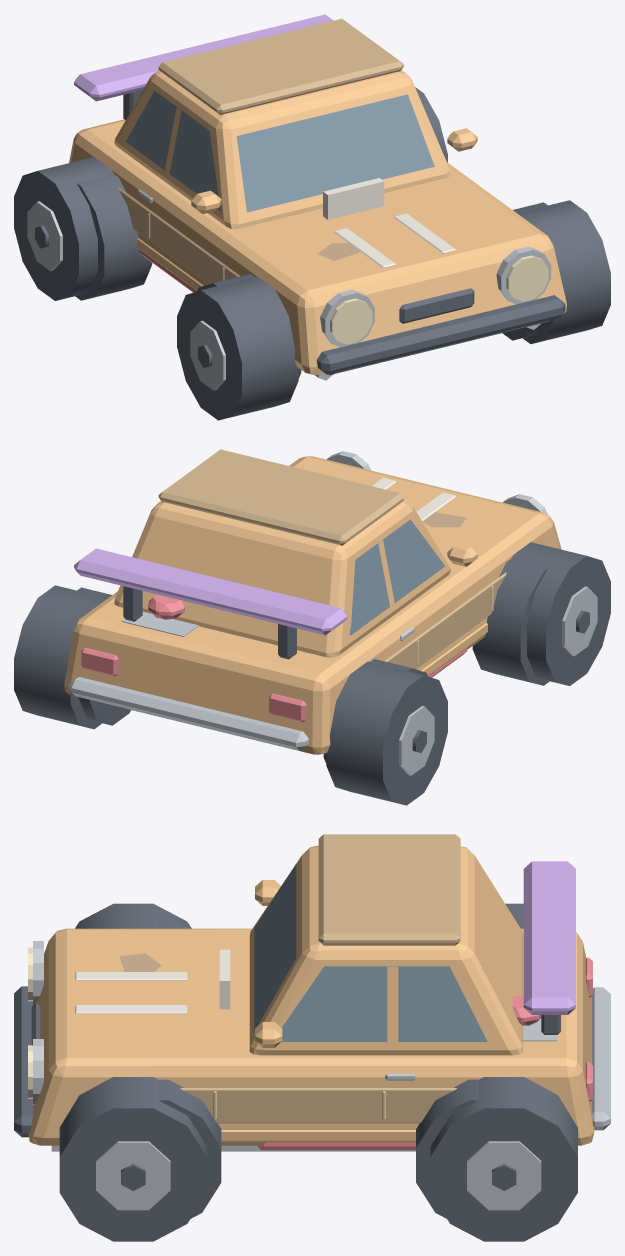
Rendered from cars_A.fbx.
The picture shows the model from 3 angles, top to bottom: view 1: azimuth 30°, elevation 25°; view 2: azimuth 150°, elevation 25°; view 3: azimuth 270°, elevation 25°; orthographic projection. The views are drawn at different scales.
Parts seen in each view (by area): view 1: D05_rusty_hatchback_orange, D05_go_kart_black, D05_rusty_hatchback_glass, D05_wooden_car_wood, D05_rusty_hatchback_black, D05_street_racer_purple, D05_go_kart_gray, D05_rusty_hatchback_yellow, D05_rusty_hatchback_gray, D05_go_kart_white, D05_street_racer_white; view 2: D05_rusty_hatchback_orange, D05_go_kart_black, D05_wooden_car_wood, D05_street_racer_purple, D05_rusty_hatchback_black, D05_rusty_hatchback_gray, D05_rusty_hatchback_glass, D05_go_kart_gray, D05_rusty_hatchback_red, D05_street_racer_black, D05_go_kart_red, D05_street_racer_white (+1 smaller); view 3: D05_rusty_hatchback_orange, D05_go_kart_black, D05_wooden_car_wood, D05_rusty_hatchback_glass, D05_go_kart_gray, D05_rusty_hatchback_black, D05_street_racer_purple, D05_rusty_hatchback_gray, D05_street_racer_white, D05_go_kart_red, D05_go_kart_white, D05_rusty_hatchback_rust (+1 smaller).
Boxes of the visible parts, x1=… form: D05_rusty_hatchback_orange: x1=69, y1=70, x2=566, y2=374; D05_go_kart_black: x1=14, y1=87, x2=610, y2=420; D05_rusty_hatchback_glass: x1=126, y1=90, x2=444, y2=212; D05_wooden_car_wood: x1=118, y1=18, x2=403, y2=283; D05_rusty_hatchback_black: x1=75, y1=174, x2=565, y2=378; D05_street_racer_purple: x1=74, y1=14, x2=333, y2=101; D05_go_kart_gray: x1=27, y1=201, x2=540, y2=390; D05_rusty_hatchback_yellow: x1=330, y1=255, x2=548, y2=344; D05_rusty_hatchback_gray: x1=138, y1=189, x2=551, y2=347; D05_go_kart_white: x1=323, y1=178, x2=384, y2=219; D05_street_racer_white: x1=334, y1=213, x2=455, y2=267; D05_rusty_hatchback_orange: x1=64, y1=456, x2=561, y2=754; D05_go_kart_black: x1=14, y1=542, x2=610, y2=805; D05_wooden_car_wood: x1=158, y1=449, x2=506, y2=669; D05_street_racer_purple: x1=74, y1=548, x2=347, y2=635; D05_rusty_hatchback_black: x1=77, y1=559, x2=549, y2=763; D05_rusty_hatchback_gray: x1=69, y1=451, x2=547, y2=750; D05_rusty_hatchback_glass: x1=350, y1=519, x2=445, y2=635; D05_go_kart_gray: x1=121, y1=586, x2=597, y2=775; D05_rusty_hatchback_red: x1=81, y1=647, x2=306, y2=722; D05_street_racer_black: x1=123, y1=586, x2=296, y2=659; D05_go_kart_red: x1=148, y1=594, x2=467, y2=677; D05_street_racer_white: x1=372, y1=478, x2=455, y2=521; D05_rusty_hatchback_orange: x1=28, y1=845, x2=594, y2=1145; D05_go_kart_black: x1=59, y1=903, x2=577, y2=1241; D05_wooden_car_wood: x1=180, y1=834, x2=460, y2=1123; D05_rusty_hatchback_glass: x1=254, y1=864, x2=487, y2=1041; D05_go_kart_gray: x1=51, y1=1018, x2=556, y2=1210; D05_rusty_hatchback_black: x1=14, y1=917, x2=478, y2=1218; D05_street_racer_purple: x1=523, y1=861, x2=575, y2=1014; D05_rusty_hatchback_gray: x1=33, y1=941, x2=610, y2=1130; D05_street_racer_white: x1=75, y1=972, x2=187, y2=1013; D05_go_kart_red: x1=258, y1=995, x2=541, y2=1150; D05_go_kart_white: x1=219, y1=949, x2=230, y2=1009; D05_rusty_hatchback_rust: x1=119, y1=953, x2=161, y2=971.
Bounding box in the file's own units: 458 × 259 × 548.
